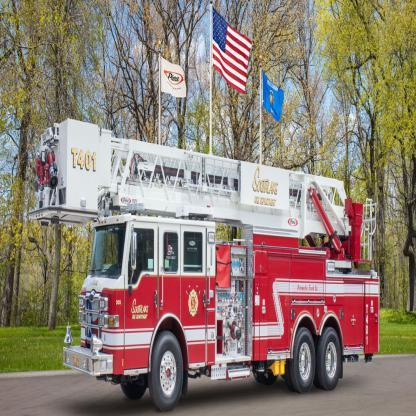fire-truck: (27, 71, 416, 416)
